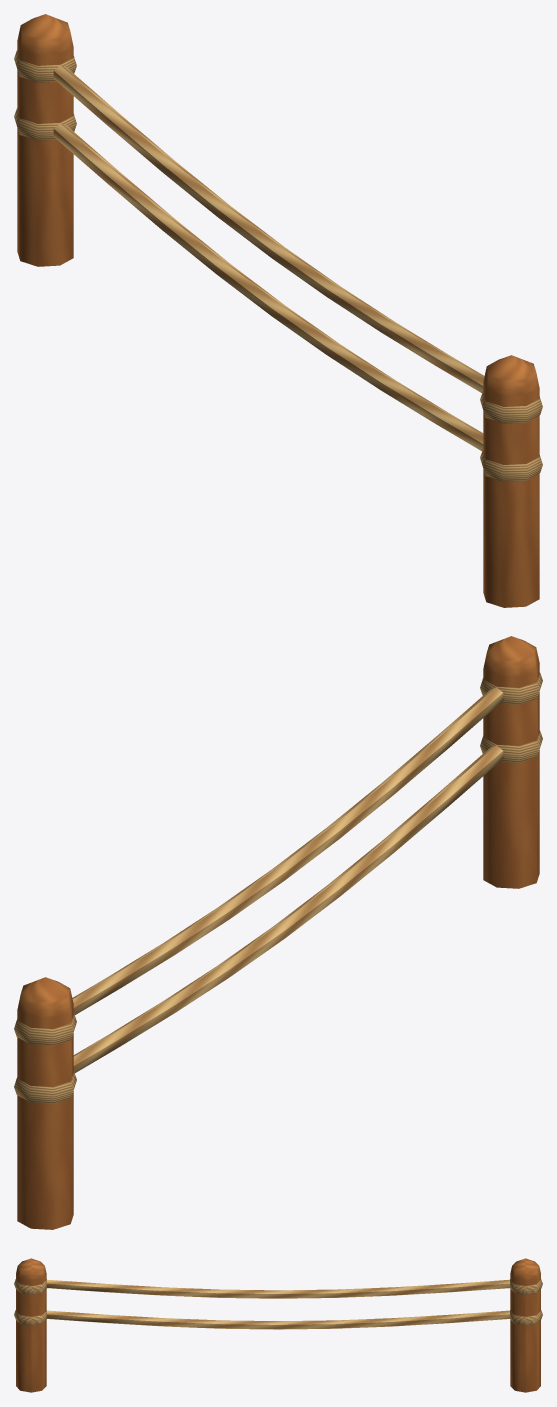
The model's file is Kit_FenceSection.fbx.
The picture shows the model from 3 angles, top to bottom: view 1: azimuth 30°, elevation 25°; view 2: azimuth 150°, elevation 25°; view 3: azimuth 270°, elevation 25°; orthographic projection. The views are drawn at different scales.
Visible parts, largest first — view 1: Kit_FenceSection; view 2: Kit_FenceSection; view 3: Kit_FenceSection.
Boxes of the visible parts, x1=… form: Kit_FenceSection: x1=14, y1=14, x2=542, y2=607; Kit_FenceSection: x1=14, y1=636, x2=542, y2=1229; Kit_FenceSection: x1=14, y1=1258, x2=542, y2=1392.
Size of the model in its own units: 1.12 by 4.56 by 17.12.
Materials: 1 (1 with a texture image).
